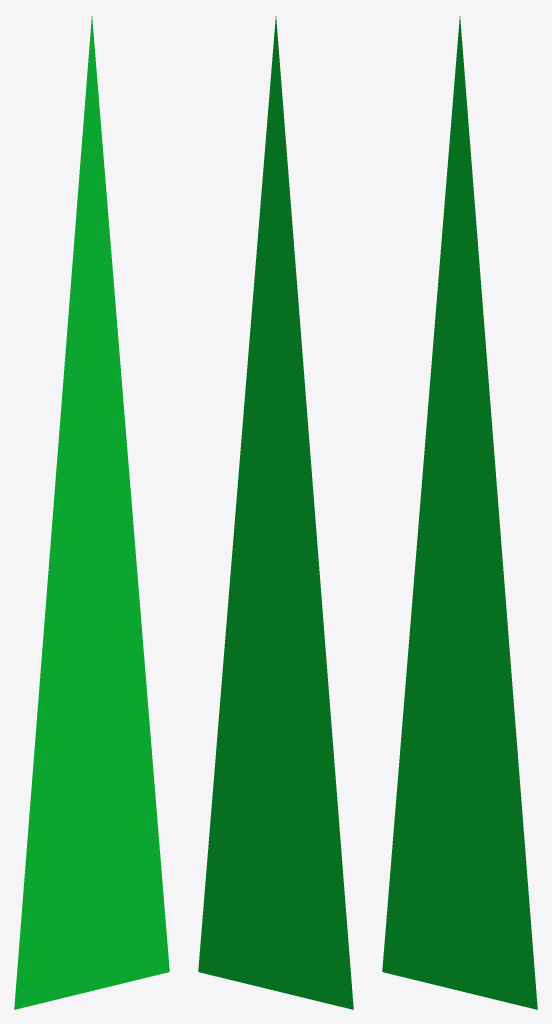
The model's file is grass.gltf.
3 renders of one model, left to right at view 1: azimuth 30°, elevation 25°; view 2: azimuth 150°, elevation 25°; view 3: azimuth 330°, elevation 25°, orthographic.
Visible parts, largest first — view 1: plane; view 2: plane; view 3: plane.
Boxes of the visible parts, x1=… form: plane: x1=14, y1=16, x2=169, y2=1009; plane: x1=198, y1=16, x2=353, y2=1009; plane: x1=382, y1=16, x2=537, y2=1009.
Size of the model in its own units: 0.0312 by 0.1875 by 4.16e-17.
Materials: 1 (1 with a texture image).
